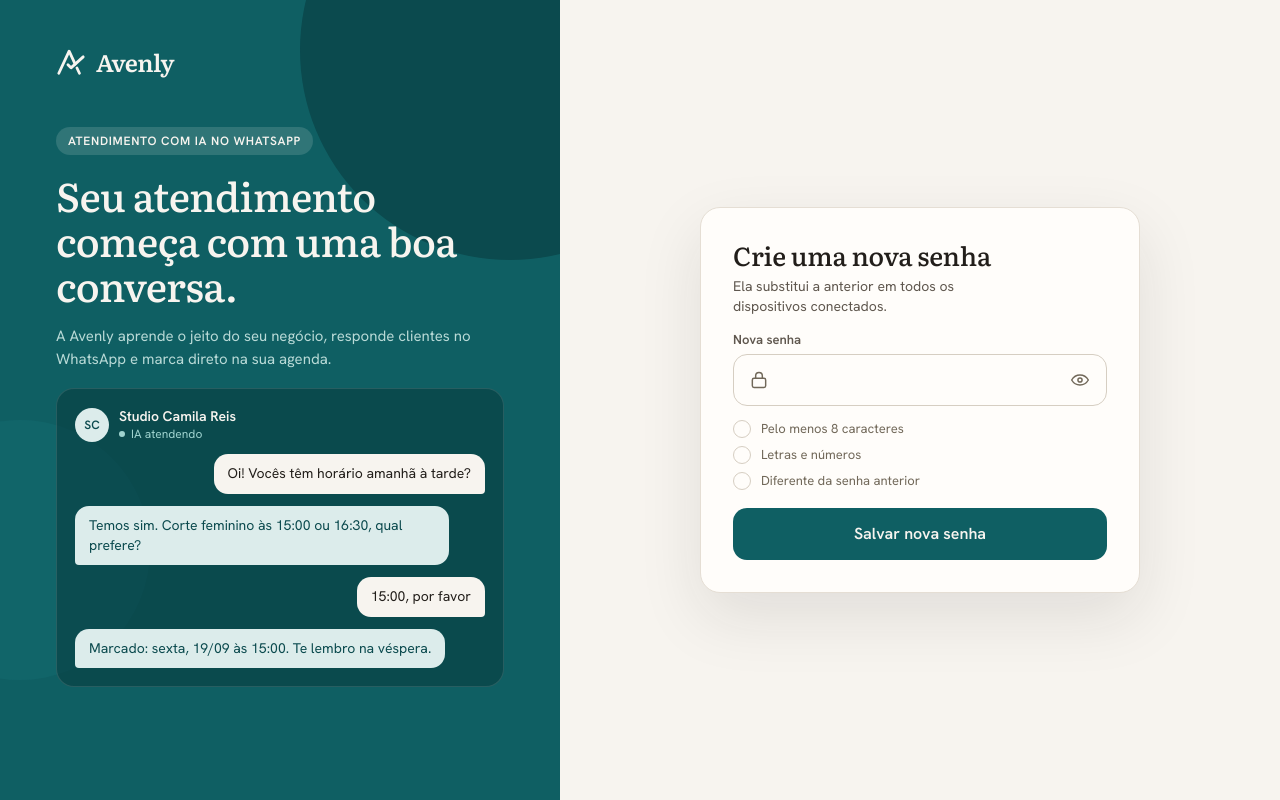
L6 — nova senha com três regras abaixo do campo › o corpo de resetPassword leva só token e newPassword
Type "senhaForte1" into the password field labelled "Nova senha" at (920, 380), box [733,354,1107,406]
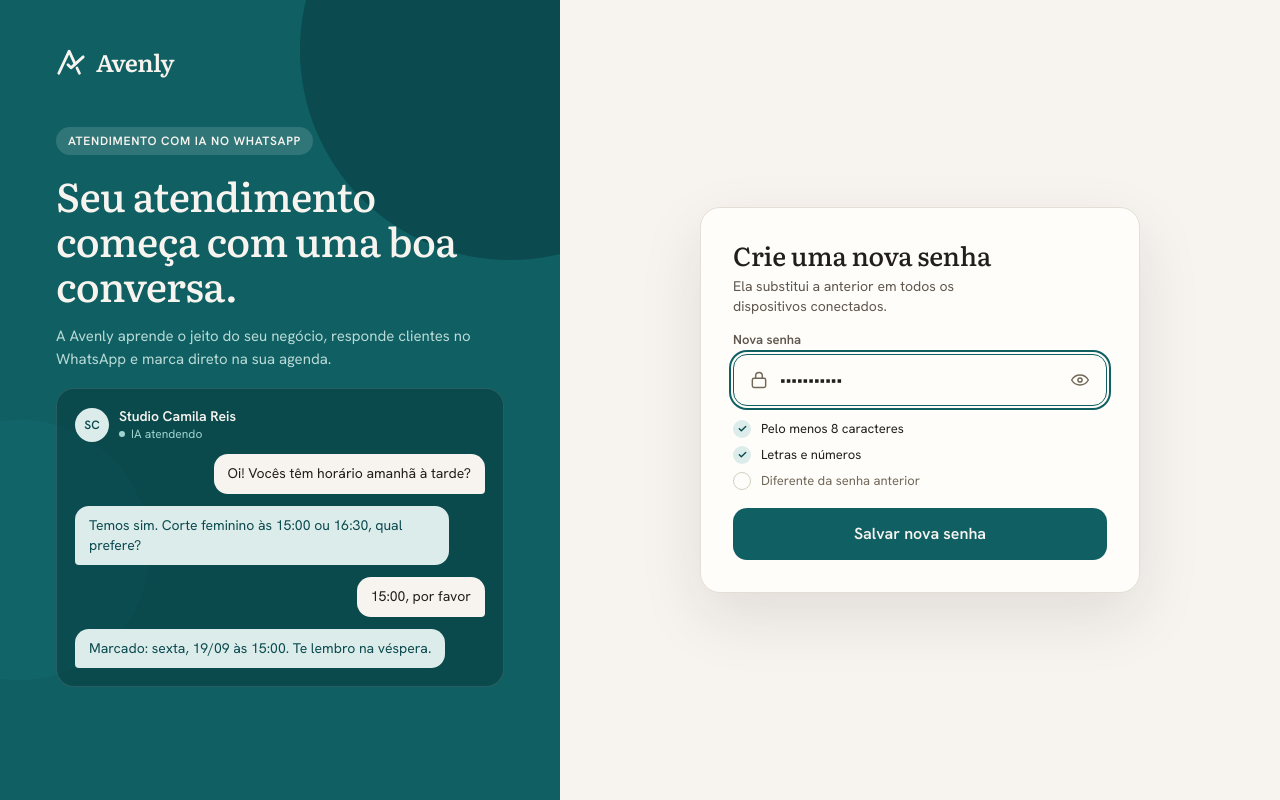
Click the button "Salvar nova senha" at (920, 534), box [733,508,1107,560]
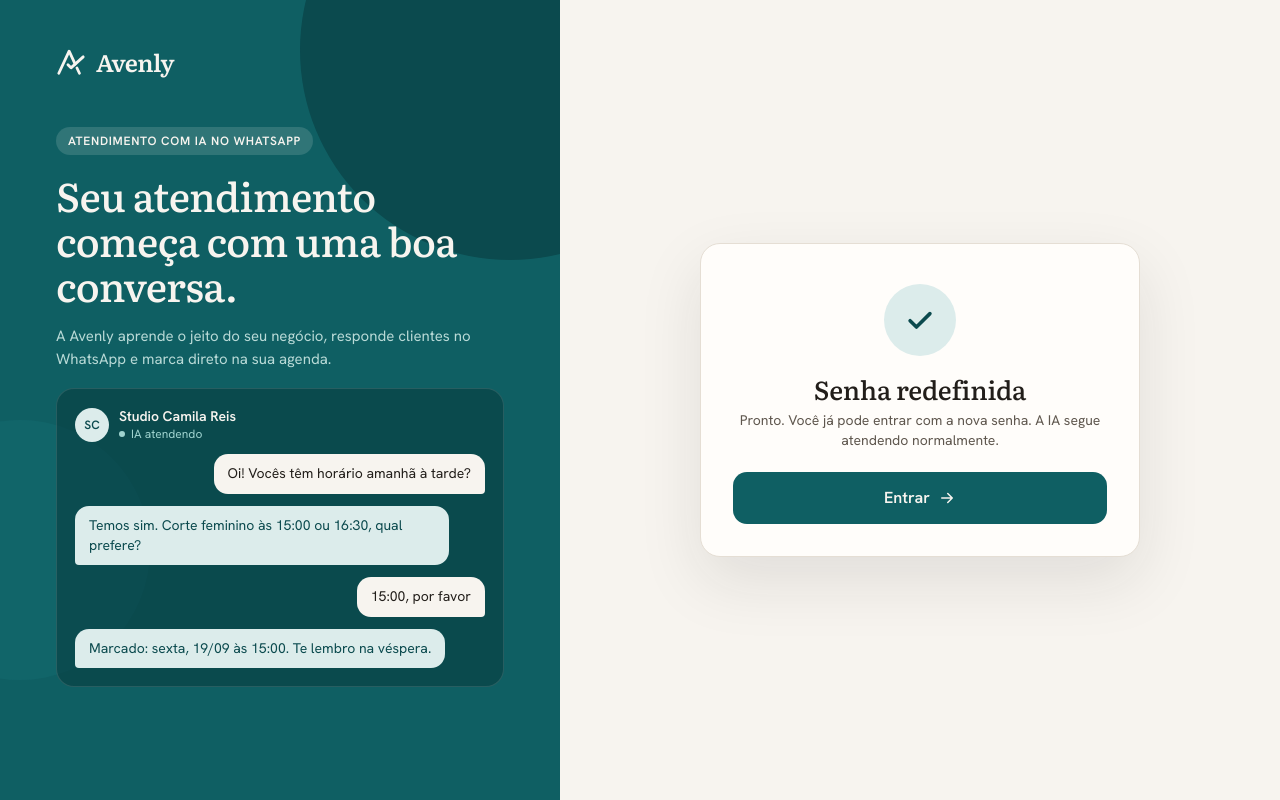
Check: the heading "Senha redefinida" is shown, box [814,369,1026,408]
